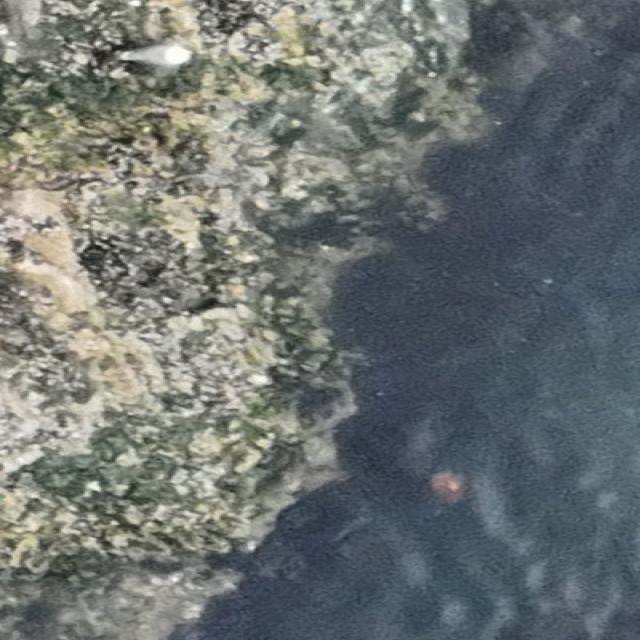umineko: (126, 45, 192, 67)
